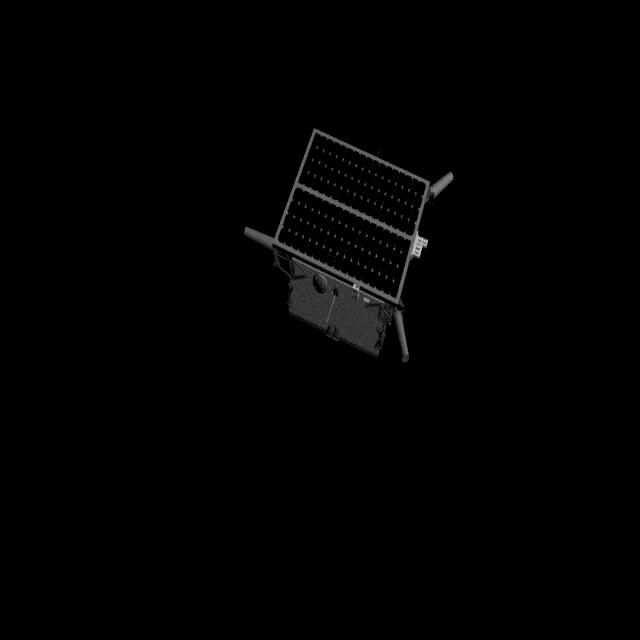medium_debris: (242, 126, 460, 372)
